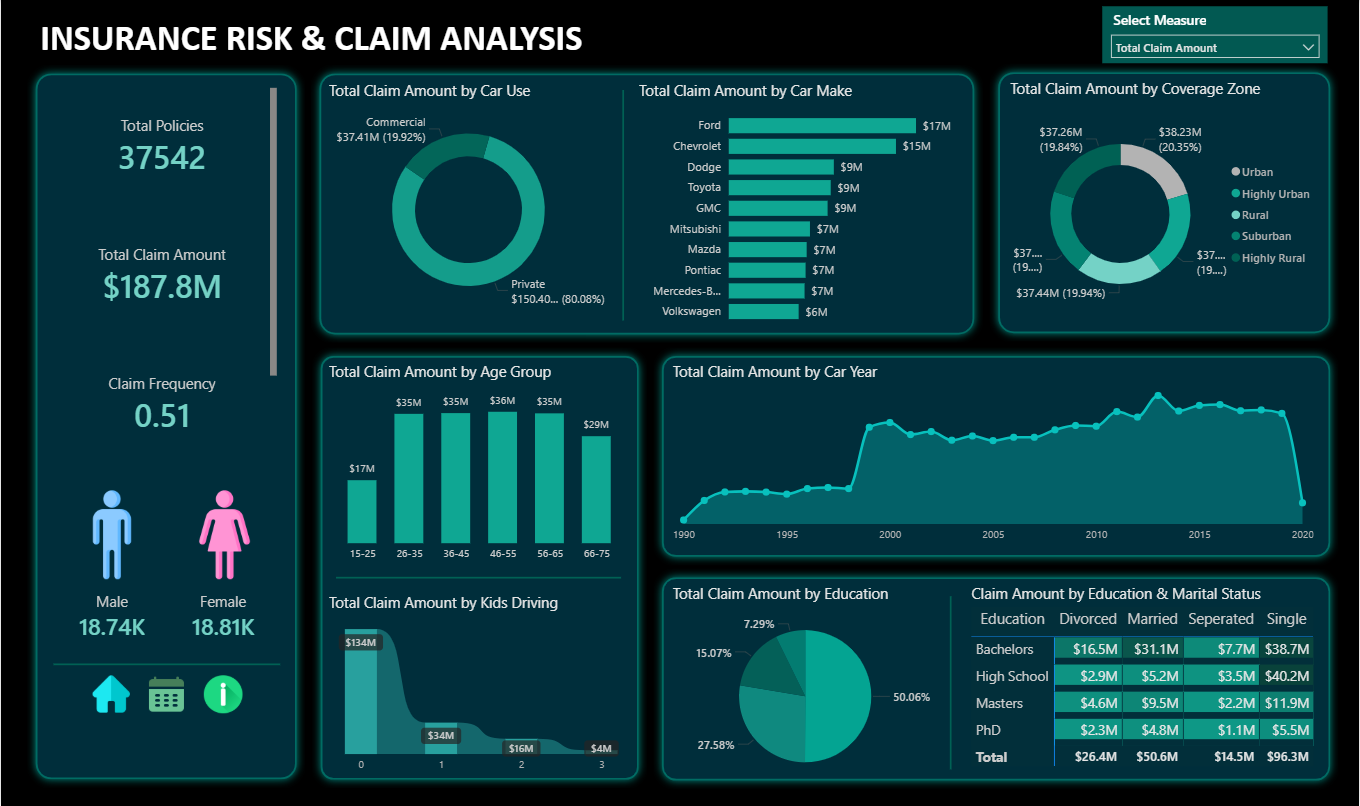

Layout of this report page (visuals, bound fields, positions):
{"tool":"powerbi","page":{"name":"INSURANCE RISK & CLAIMS ANALYSIS","canvas":[1600,950],"ordinal":0},"visuals":[{"type":"image","box":[73.5,573.8,114.6,114.6],"z":0,"group":"g1"},{"type":"textbox","box":[41.1,13.2,875.4,66.1],"z":0},{"type":"image","box":[205.7,573.8,114.6,114.6],"z":1000,"group":"g1"},{"type":"shape","box":[30.8,77.3,327.5,851.9],"z":1000},{"type":"cardVisual","fields":{"Data":["insurance_data_car.Male Count","insurance_data_car.Female Count"]},"box":[67.6,670.7,257,111.6],"z":2000,"group":"g1"},{"type":"cardVisual","fields":{"Data":["insurance_data_car.Total Policies","insurance_data_car.Total Claim Amount","insurance_data_car.Claim Frequency","insurance_data_car.Avg Claim Amount"]},"box":[61.7,99.4,268.8,459.7],"z":2000},{"type":"group","id":"g1","title":"Group 1","box":[67.6,573.8,257,208.6],"z":3000},{"type":"shape","box":[365.7,77.3,791.7,327.5],"z":4000},{"type":"donutChart","fields":{"Y":["insurance_data_car.Total Claim Amount"],"Category":["insurance_data_car.Car Use"]},"box":[381.2,94.6,339.2,283.7],"z":5000},{"type":"clusteredBarChart","fields":{"Y":["insurance_data_car.Total Claim Amount"],"Category":["insurance_data_car.Car Make"]},"box":[747.5,94.6,393.2,297.2],"z":6000},{"type":"shape","box":[1164.7,75.9,411.3,327.5],"z":7000},{"type":"donutChart","fields":{"Y":["insurance_data_car.Total Claim Amount"],"Category":["insurance_data_car.Coverage Zone"]},"box":[1183.8,93.5,373.1,296.7],"z":8000},{"type":"slicer","fields":{"Values":["Select Measure.Select Measure"]},"box":[1298.3,7.5,265.7,67.5],"z":9000},{"type":"shape","box":[61.7,767.7,267.3,30.8],"z":10000},{"type":"shape","box":[366.2,409.8,394.7,519.3],"z":11000},{"type":"columnChart","fields":{"Y":["insurance_data_car.Total Claim Amount"],"Category":["insurance_data_car.Age Group"]},"box":[381.2,426.3,366.2,244.7],"z":12000},{"type":"ribbonChart","fields":{"Y":["insurance_data_car.Total Claim Amount"],"Category":["insurance_data_car.Kids Driving"]},"box":[381.2,697.9,369.2,220.6],"z":13000},{"type":"shape","box":[768.5,409.8,807.5,256.7],"z":14000},{"type":"areaChart","fields":{"Y":["insurance_data_car.Total Claim Amount"],"Category":["insurance_data_car.Car Year"]},"box":[786.5,426.3,765.5,222.1],"z":15000},{"type":"shape","box":[768.5,670.9,807.5,259.7],"z":16000},{"type":"pivotTable","title":"Claim Amount by Education & Marital Status","fields":{"Values":["insurance_data_car.Total Claim Amount"],"Rows":["insurance_data_car.Education"],"Columns":["insurance_data_car.Marital Status"]},"box":[1139.2,687.4,417.3,222.1],"z":17000},{"type":"pieChart","fields":{"Y":["insurance_data_car.Total Claim Amount"],"Category":["insurance_data_car.Education"]},"box":[786.5,687.4,322.7,243.2],"z":18000},{"type":"shape","box":[394.7,669.4,336.2,24],"z":19000},{"type":"shape","box":[712.9,106.6,40.5,271.7],"z":20000},{"type":"shape","box":[1098.7,702.4,40.5,204.1],"z":21000},{"type":"image","box":[103.6,791,54,54],"z":22000},{"type":"image","box":[234.1,782,55.5,72],"z":23000},{"type":"image","box":[166.6,789.5,57,57],"z":24000}]}

Visuals, with their boxes in screenshot pixels (x1, y1, x2, y2), scaled from the page's 1600x950 canvas onto the 1360x806 screenshot:
image: 62:487:160:584
textbox: 35:11:779:67
image: 175:487:272:584
shape: 26:66:305:788
cardVisual - insurance_data_car.Male Count x insurance_data_car.Female Count: 57:569:276:664
cardVisual - insurance_data_car.Total Policies x insurance_data_car.Total Claim Amount: 52:84:281:474
"Group 1" group: 57:487:276:664
shape: 311:66:984:343
donutChart - insurance_data_car.Total Claim Amount x insurance_data_car.Car Use: 324:80:612:321
clusteredBarChart - insurance_data_car.Total Claim Amount x insurance_data_car.Car Make: 635:80:970:332
shape: 990:64:1340:342
donutChart - insurance_data_car.Total Claim Amount x insurance_data_car.Coverage Zone: 1006:79:1323:331
slicer - Select Measure.Select Measure: 1104:6:1329:64
shape: 52:651:280:677
shape: 311:348:647:788
columnChart - insurance_data_car.Total Claim Amount x insurance_data_car.Age Group: 324:362:635:569
ribbonChart - insurance_data_car.Total Claim Amount x insurance_data_car.Kids Driving: 324:592:638:779
shape: 653:348:1340:565
areaChart - insurance_data_car.Total Claim Amount x insurance_data_car.Car Year: 669:362:1319:550
shape: 653:569:1340:790
"Claim Amount by Education & Marital Status" pivotTable: 968:583:1323:772
pieChart - insurance_data_car.Total Claim Amount x insurance_data_car.Education: 669:583:943:790
shape: 335:568:621:588
shape: 606:90:640:321
shape: 934:596:968:769
image: 88:671:134:717
image: 199:663:246:725
image: 142:670:190:718
